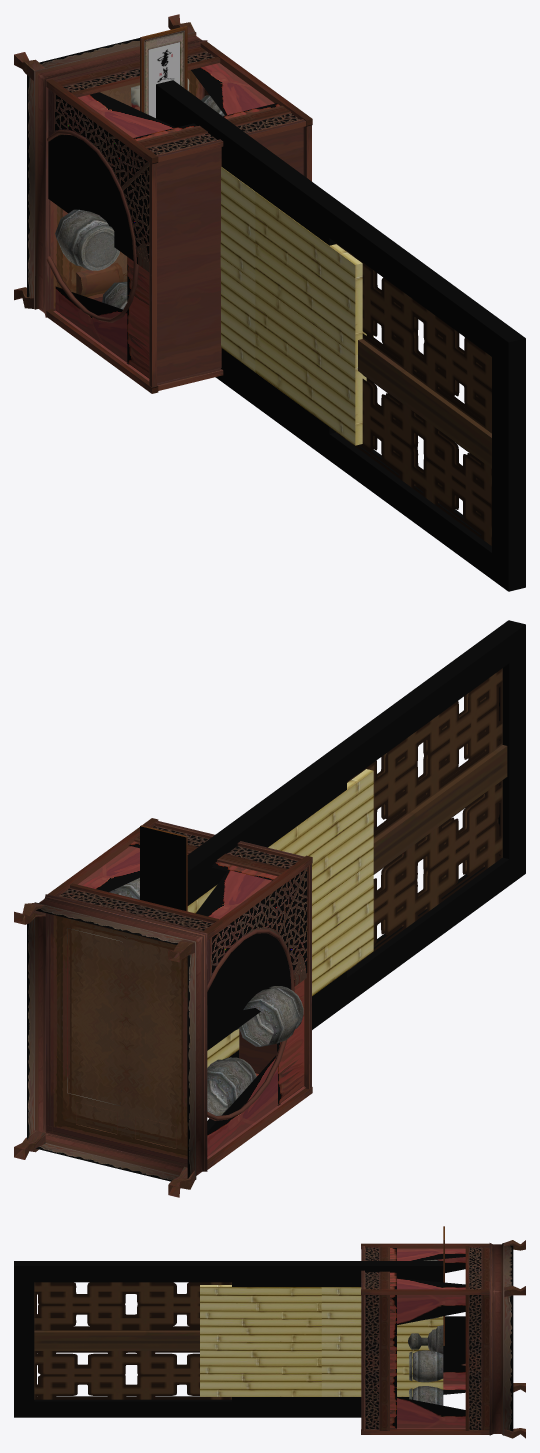
Rendered from submap-kit.glb.
3 views of the same model, one above another, from view 1: azimuth 30°, elevation 25°; view 2: azimuth 150°, elevation 25°; view 3: azimuth 270°, elevation 25° (orthographic). The views are drawn at different scales.
Parts seen in each view (by area): view 1: bed, wood-door, wall-bamboo, barrel, cabinet; view 2: bed, wood-door, wall-bamboo, barrel, cabinet; view 3: wood-door, bed, wall-bamboo, barrel.
Part boxes in pixels (<box>): bed: <box>14,14,312,393</box>; wood-door: <box>156,80,525,591</box>; wall-bamboo: <box>220,167,373,445</box>; barrel: <box>55,95,224,309</box>; cabinet: <box>140,26,187,117</box>; bed: <box>14,818,312,1197</box>; wood-door: <box>187,620,525,1058</box>; wall-bamboo: <box>187,769,373,1067</box>; barrel: <box>109,878,303,1115</box>; cabinet: <box>140,825,187,911</box>; wood-door: <box>14,1261,443,1417</box>; bed: <box>361,1240,525,1438</box>; wall-bamboo: <box>200,1285,443,1396</box>; barrel: <box>408,1259,443,1405</box>.
Size of the model in its own units: 98.36 by 122 by 310.
Materials: 15 (15 with a texture image).
